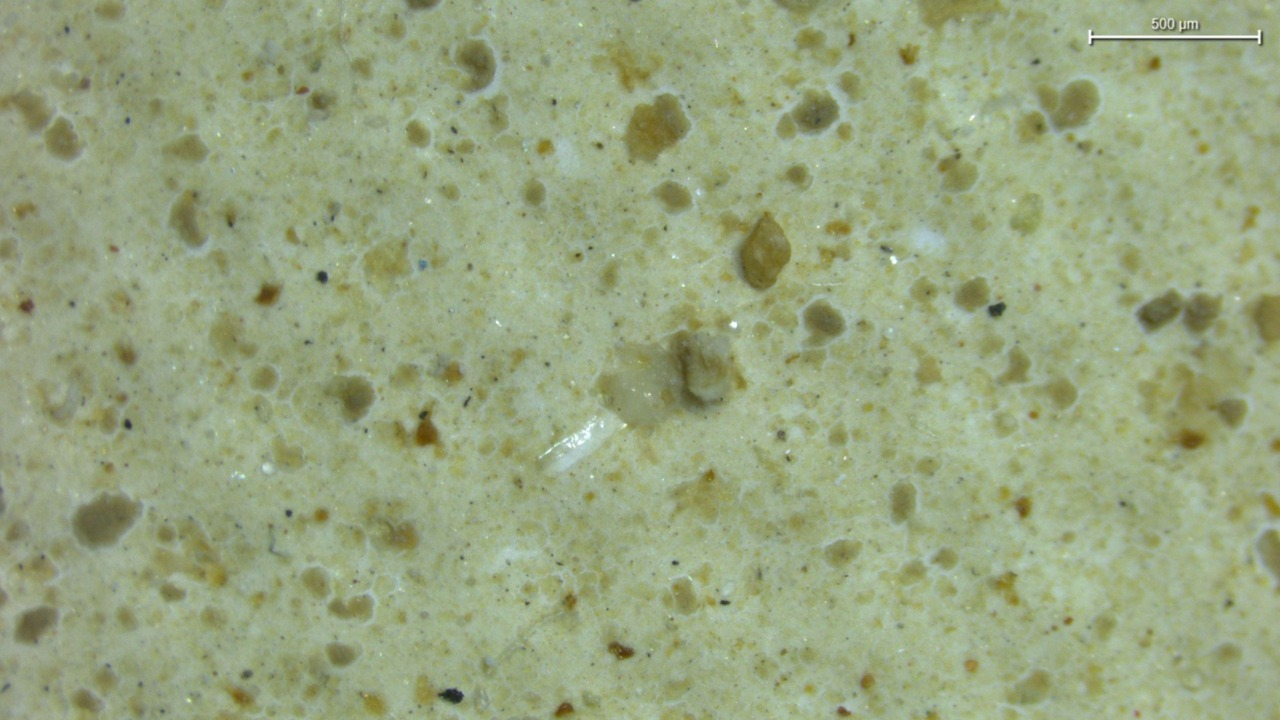microplastic_fragment: (675, 331, 738, 404), (740, 213, 791, 290)
